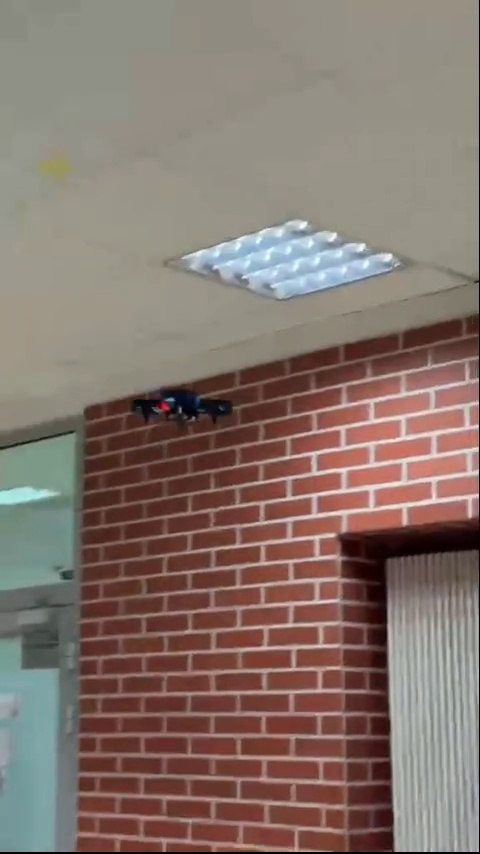drone: (126, 386, 231, 426)
